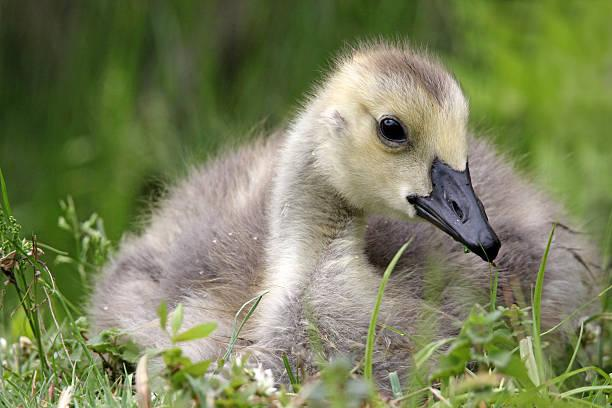Canadian-Goose: (83, 40, 600, 374)
